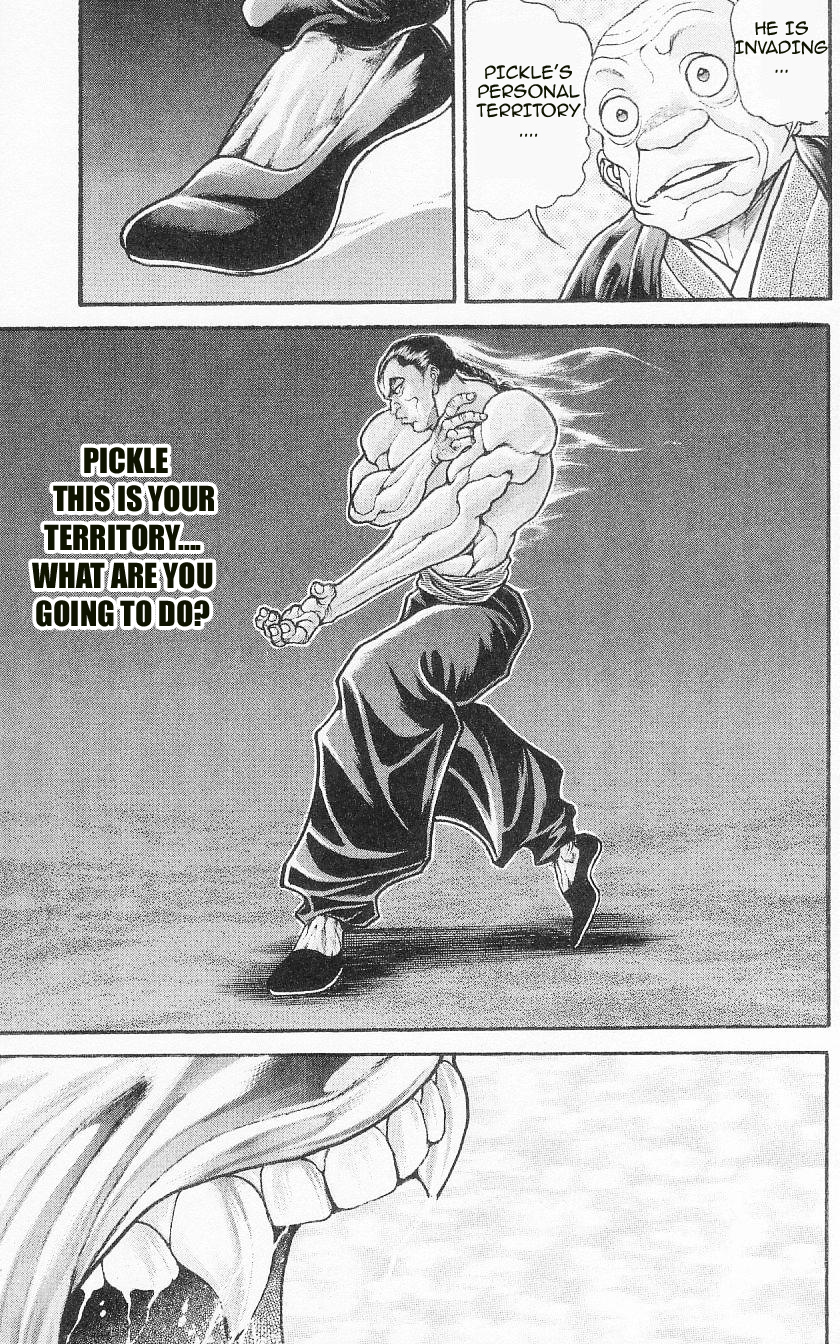Baloon: (27, 433, 229, 635), (468, 1, 598, 220), (731, 1, 830, 127)
Vignetta: (1, 320, 833, 1028), (2, 1053, 830, 1344), (82, 1, 455, 300), (468, 1, 830, 302)
